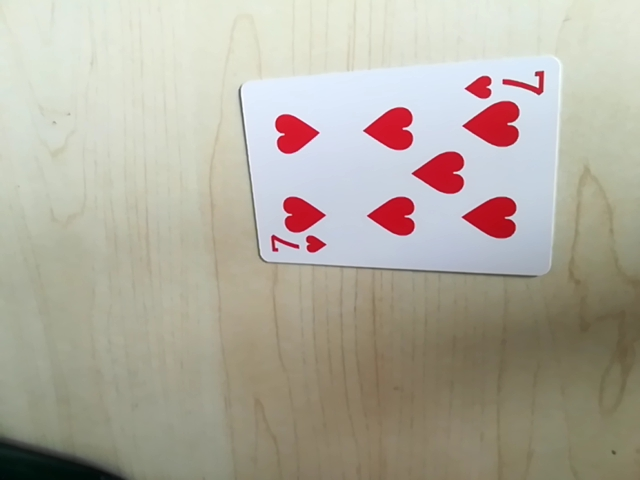hx 7: (462, 61, 546, 100), (264, 231, 330, 260)
